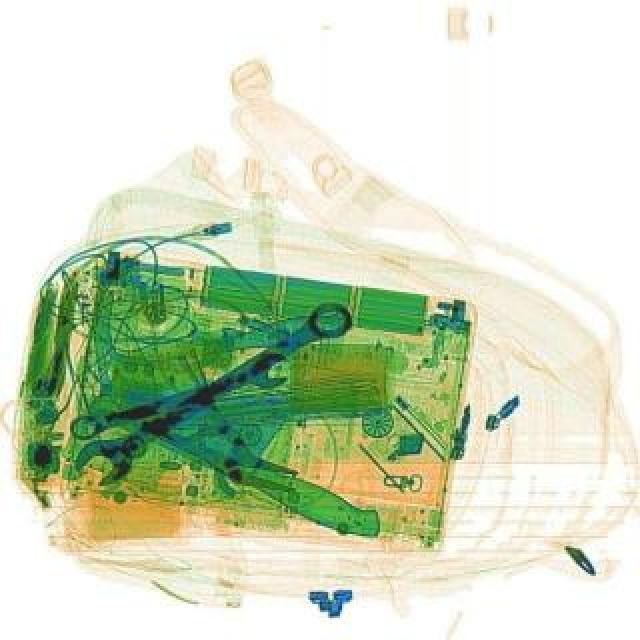knife: (84, 334, 412, 548), (114, 308, 352, 368)
scissors: (66, 288, 362, 494), (64, 344, 294, 446)
